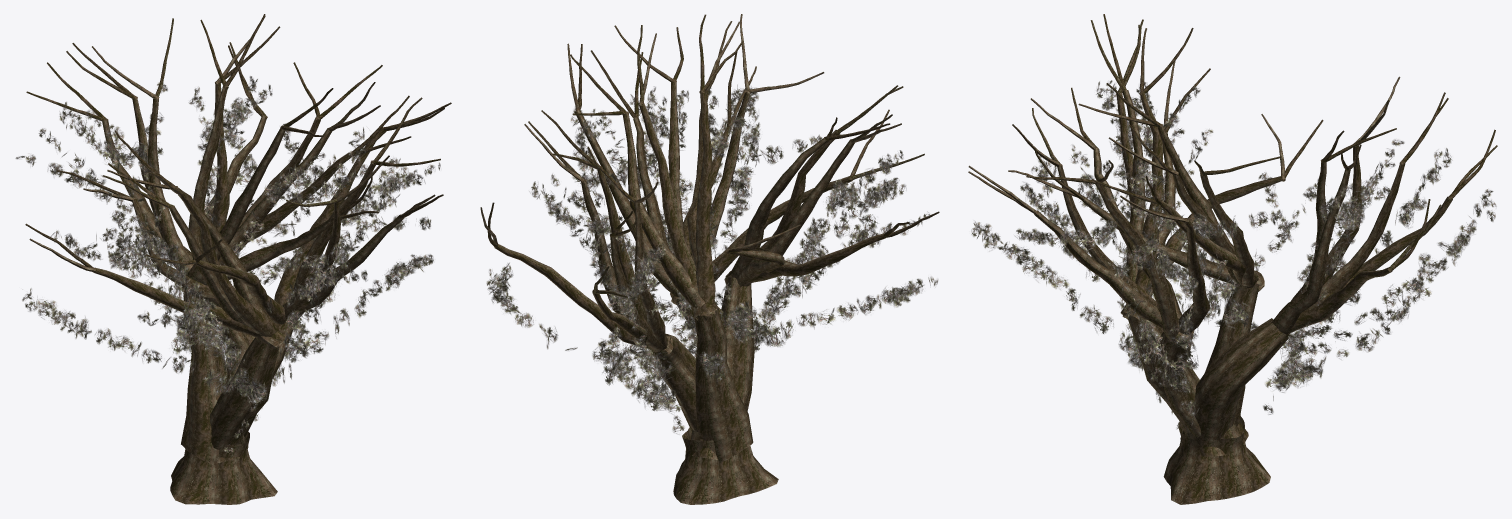
The model's file is blossom_4x_4.glb.
3 views of the same model, side by side, from view 1: azimuth 30°, elevation 25°; view 2: azimuth 150°, elevation 25°; view 3: azimuth 270°, elevation 25° (orthographic). The views are drawn at different scales.
Visible parts, largest first — view 1: blossom; view 2: blossom; view 3: blossom.
Part boxes in pixels (x1,y1,x2,y2): blossom: (15,14,451,504); blossom: (480,14,939,504); blossom: (968,14,1497,504).
Size of the model in its own units: 66.16 by 67.48 by 75.09.
Materials: 2 (2 with a texture image).
